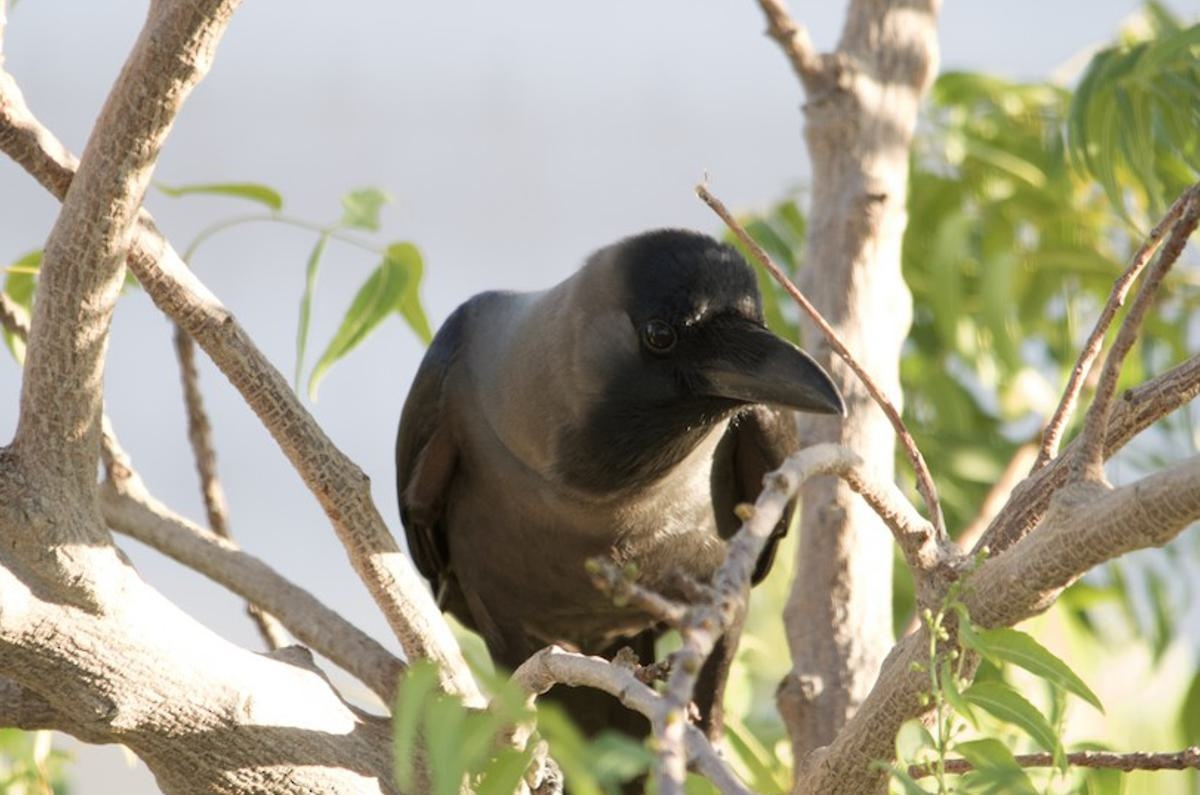crow: (378, 197, 828, 711)
